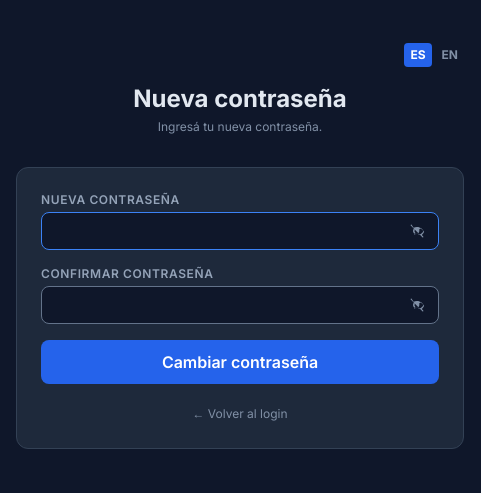
it: ResetPassword › un detail desconocido no se muestra tal cual: cae en el mensaje genérico
Type "una-clave-valida" into the 1st password field.
click(240, 231); type("una-clave-valida")  # box [41,212,439,250]
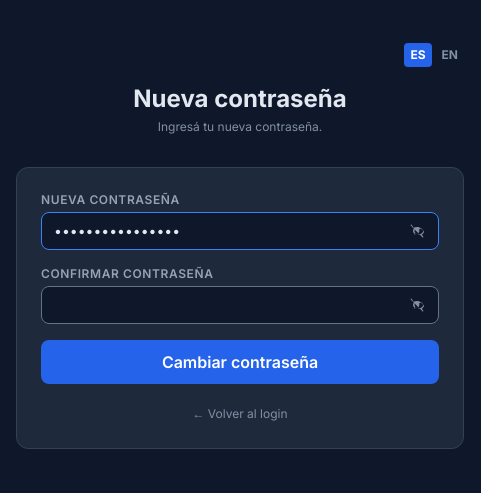
Type "una-clave-valida" into the password field below "Confirmar contraseña".
click(240, 305); type("una-clave-valida")  # box [41,286,439,324]
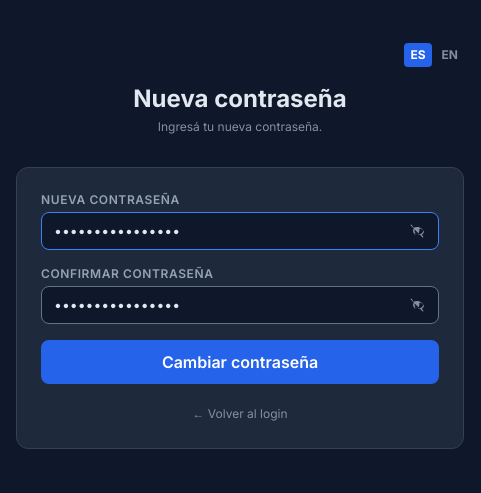
Click the button "Cambiar contraseña".
click(240, 362)  # box [41,340,439,384]
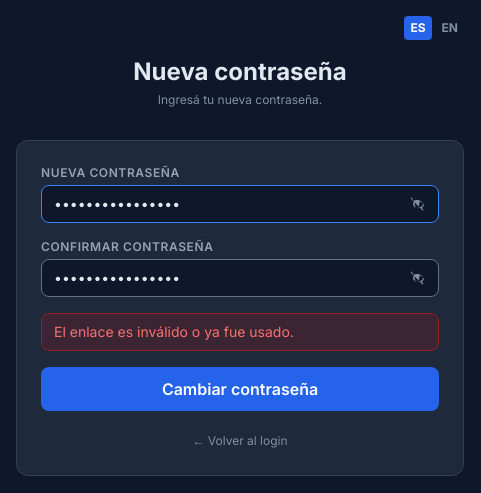
Now the text "El enlace es inválido o ya fue usado." is shown, box [41,313,439,351]
